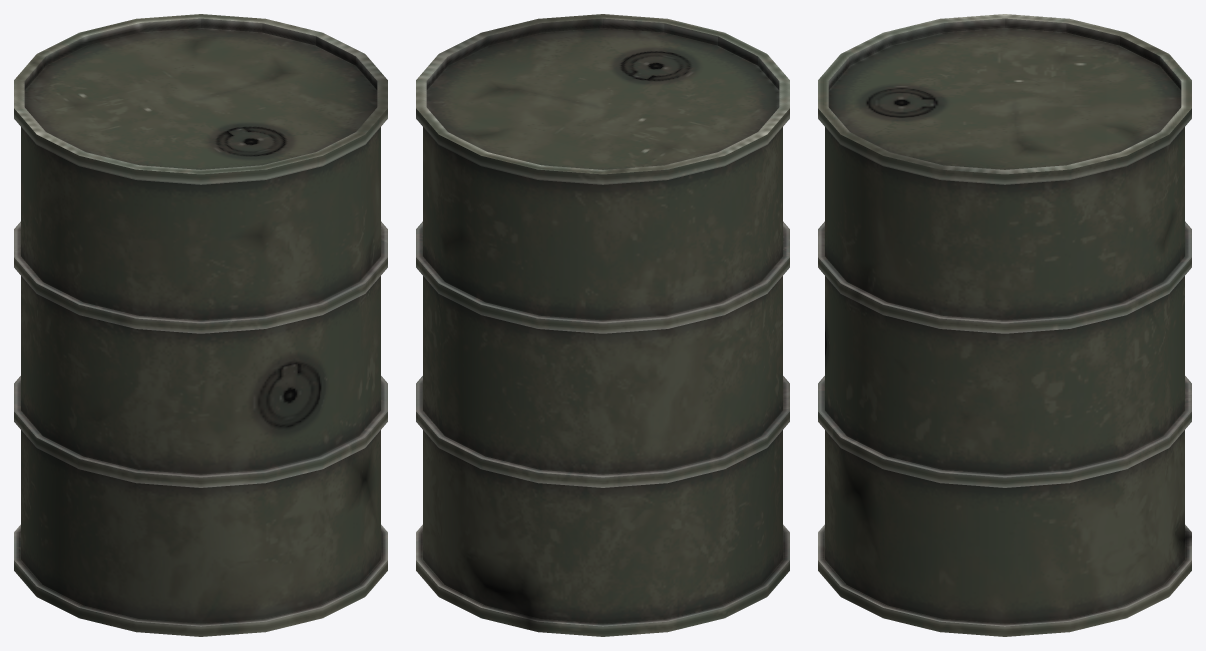
The model's file is MediumTank_Gear_FuelDrum_01.FBX.
3 renders of one model, left to right at view 1: azimuth 30°, elevation 25°; view 2: azimuth 150°, elevation 25°; view 3: azimuth 270°, elevation 25°, orthographic.
Visible parts, largest first — view 1: MediumTank_Gear_FuelDrum_01; view 2: MediumTank_Gear_FuelDrum_01; view 3: MediumTank_Gear_FuelDrum_01.
Part boxes in pixels (bbox=[...]): MediumTank_Gear_FuelDrum_01: bbox=[14, 14, 387, 636]; MediumTank_Gear_FuelDrum_01: bbox=[416, 14, 789, 636]; MediumTank_Gear_FuelDrum_01: bbox=[818, 14, 1191, 636].
Size of the model in its own units: 0.6649 by 0.8936 by 0.6548.
